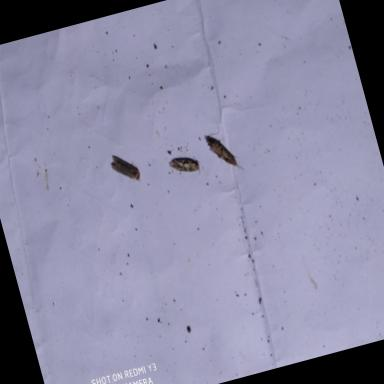pbw: (201, 120, 248, 179), (104, 146, 146, 192), (165, 147, 204, 182)
